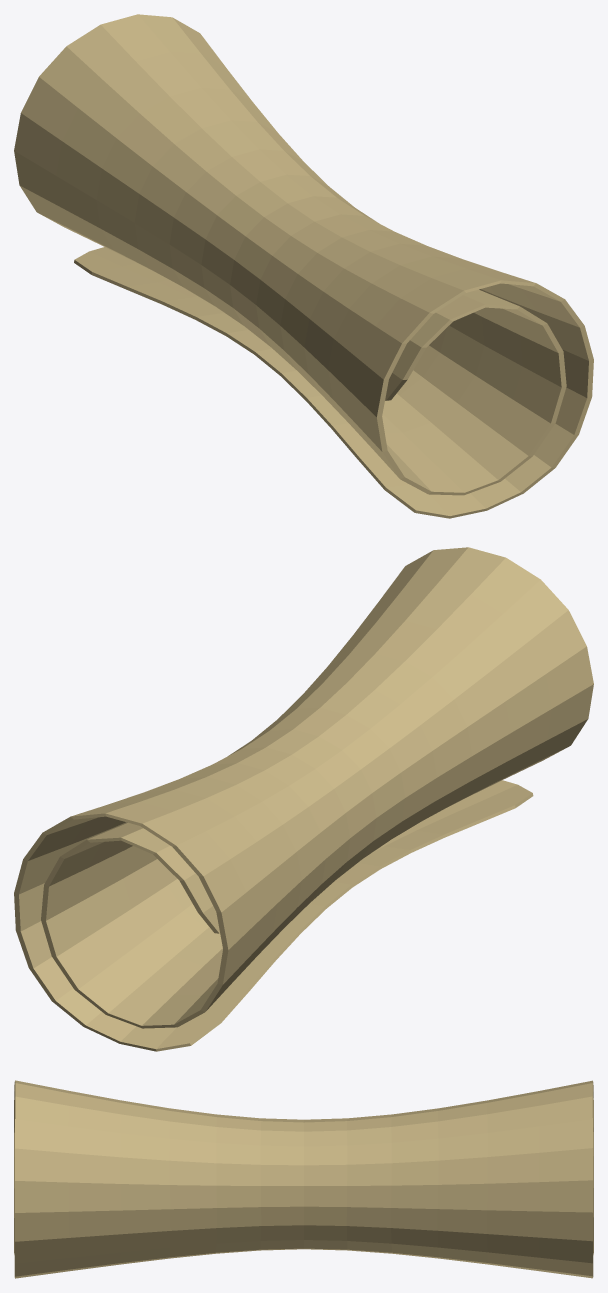
File: Parchemin V2.fbx
The picture shows the model from 3 angles, top to bottom: view 1: azimuth 30°, elevation 25°; view 2: azimuth 150°, elevation 25°; view 3: azimuth 270°, elevation 25°; orthographic projection. The views are drawn at different scales.
Visible parts, largest first — view 1: Plane.002; view 2: Plane.002; view 3: Plane.002.
Boxes of the visible parts, x1=… form: Plane.002: x1=14, y1=14, x2=593, y2=518; Plane.002: x1=14, y1=547, x2=593, y2=1051; Plane.002: x1=14, y1=1080, x2=593, y2=1278.
Size of the model in its own units: 11.43 by 11.4 by 33.25.
